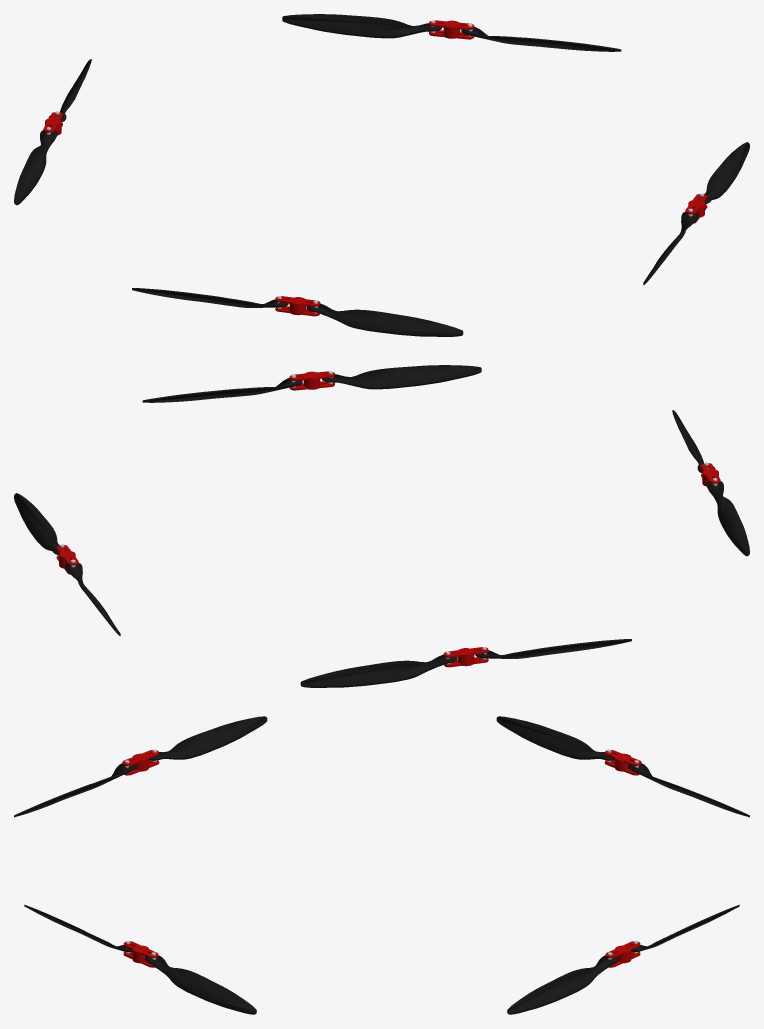
The model's file is props4.dae.
3 views of the same model, one above another, from view 1: azimuth 30°, elevation 25°; view 2: azimuth 150°, elevation 25°; view 3: azimuth 270°, elevation 25° (orthographic).
Parts seen in each view (by area): view 1: Prop_VR_2 (×2), Prop_VR_1 (×2); view 2: Prop_VR_2 (×2), Prop_VR_1 (×2); view 3: Prop_VR_1 (×2), Prop_VR_2 (×2).
Boxes of the visible parts, x1,y1,x2,y2 form: Prop_VR_2 (×2): (14,14,699,307); Prop_VR_1 (×2): (48,26,749,336); Prop_VR_2 (×2): (64,365,749,658); Prop_VR_1 (×2): (14,377,715,687); Prop_VR_1 (×2): (14,763,749,1014); Prop_VR_2 (×2): (24,716,739,951).
Bounding box in the file's own units: 925 × 27.48 × 977.
